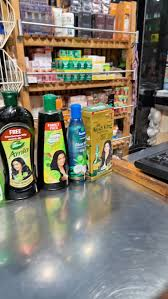parachute: (66, 104, 87, 181), (0, 138, 80, 152)
